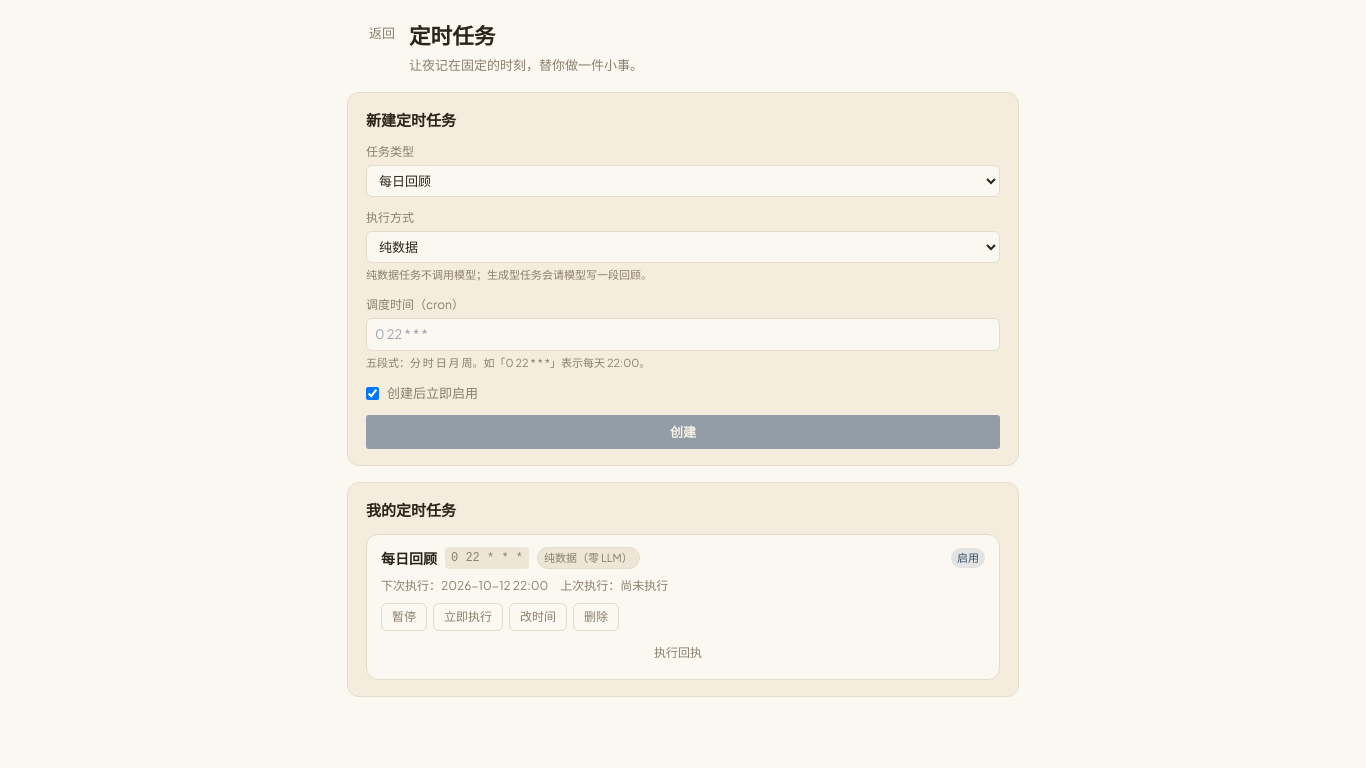
Test: ScheduleScene › deletes a task after confirmation
The image size is (1366, 768).
Click the button with test id "schedule-delete". click: (596, 617)
box: [573,603,619,631]
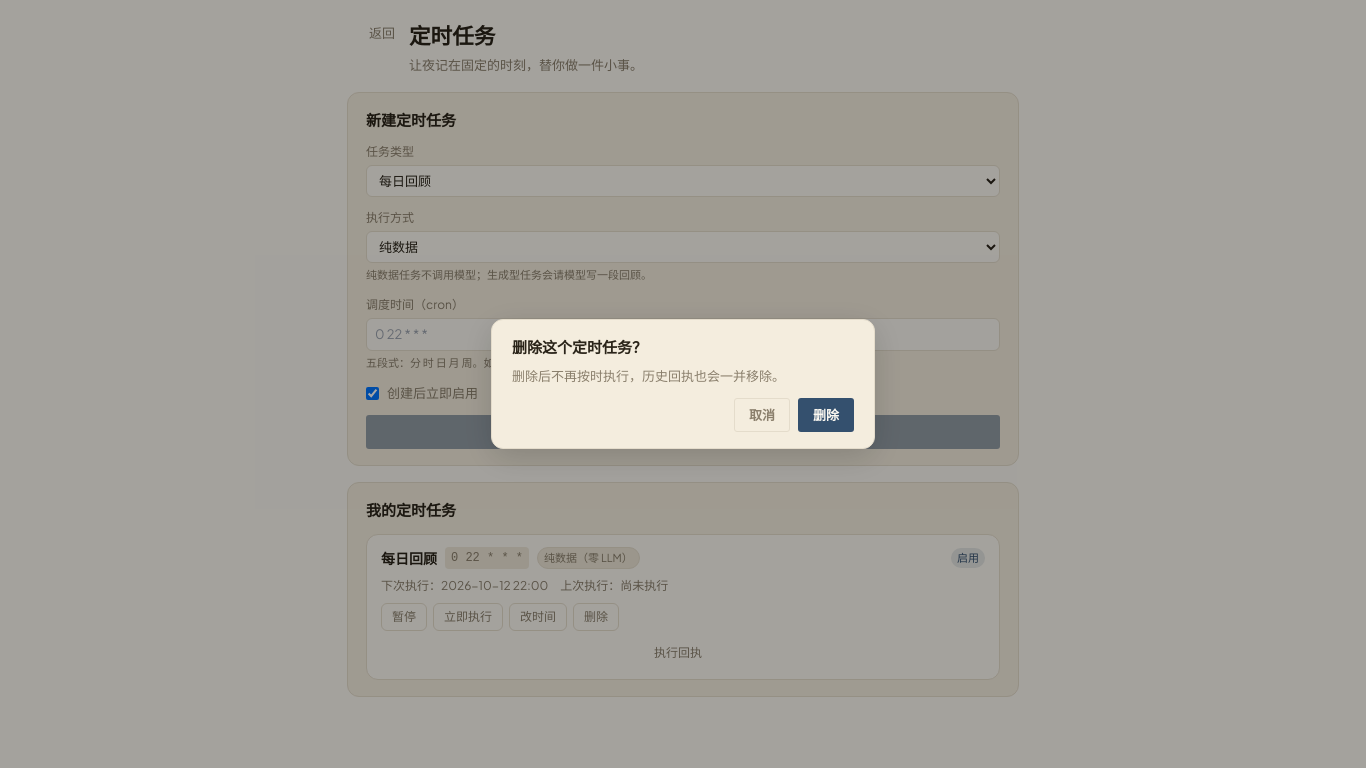
Expected: the button with test id "schedule-delete-confirm" is shown
Click the button with test id "schedule-delete-confirm". click: (826, 415)
box: [798,398,854,432]
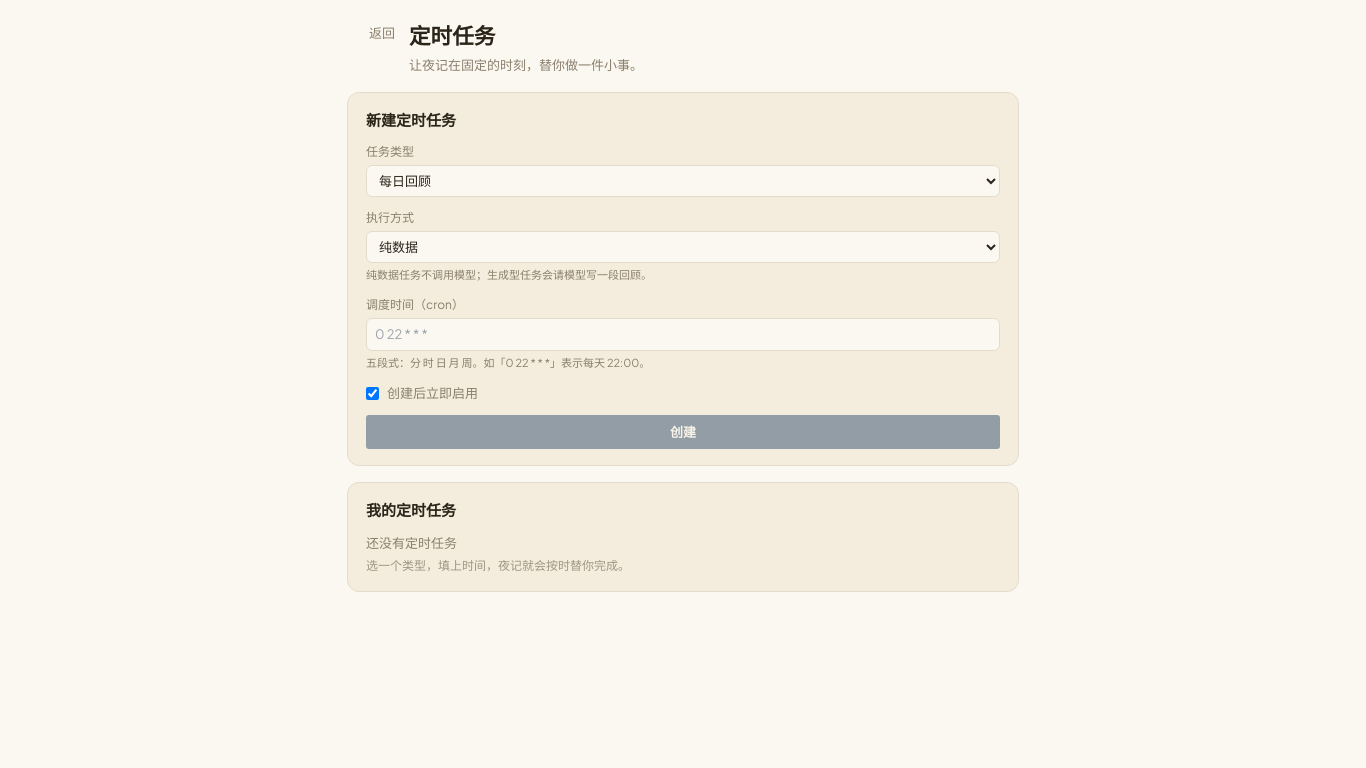
Expected: no list items with test id "schedule-item" are shown
